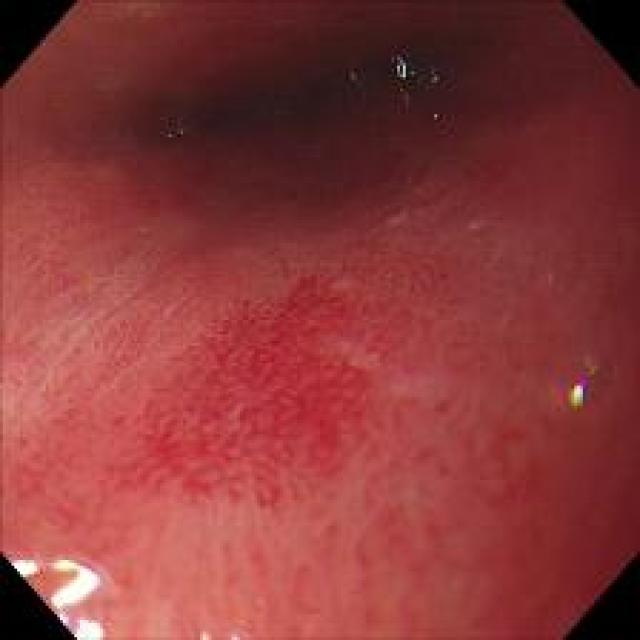color misalignment: (382, 42, 451, 126), (335, 52, 372, 122), (154, 108, 201, 154), (554, 365, 590, 421)
contrast: (120, 30, 485, 174)
specularity: (54, 550, 85, 624), (64, 606, 114, 636), (10, 544, 40, 590)
